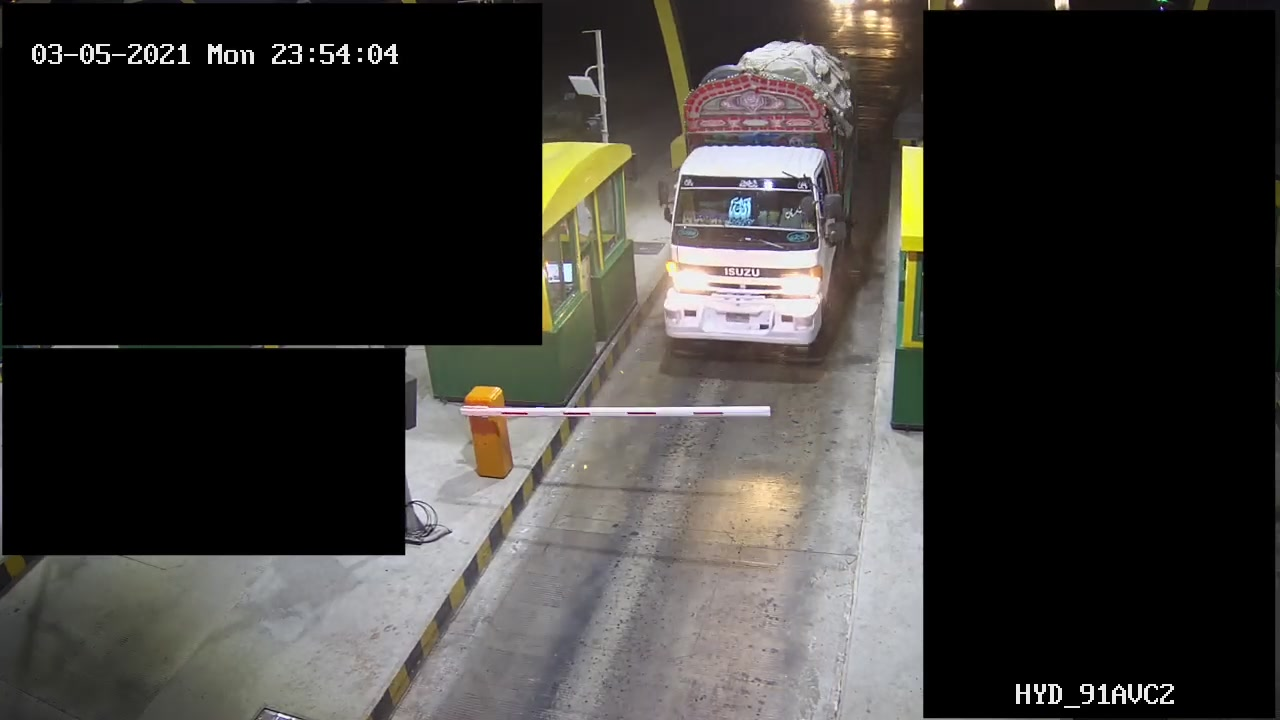F5: (657, 37, 859, 362)
